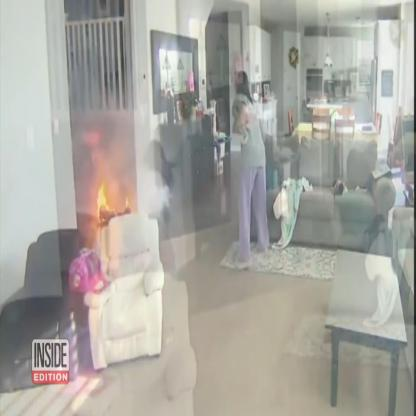fire: (97, 184, 111, 224), (126, 196, 129, 210)
